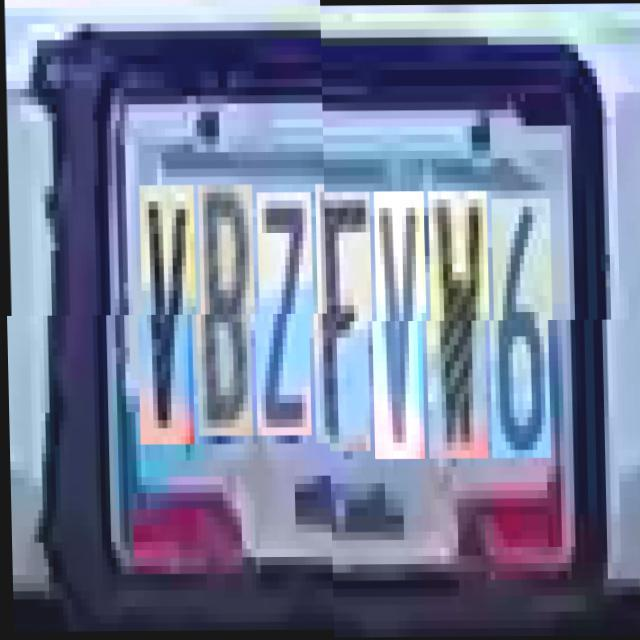6: (491, 200, 554, 458)
B: (198, 193, 255, 444)
F: (314, 193, 373, 452)
V: (138, 193, 198, 452), (373, 192, 427, 459)
W: (427, 192, 490, 459)
Z: (256, 201, 314, 444)
